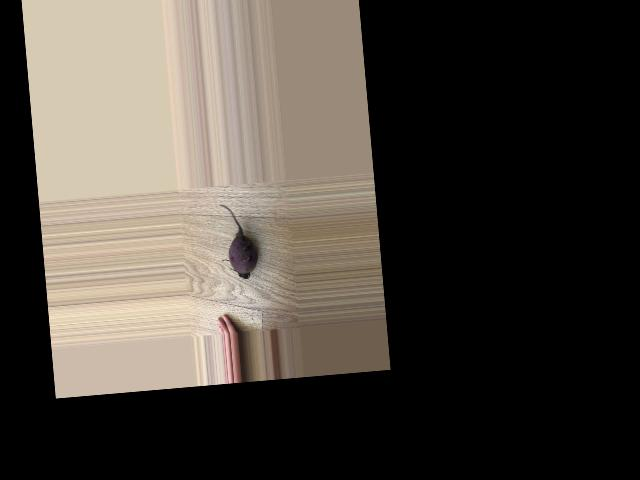beet: (217, 201, 259, 280)
